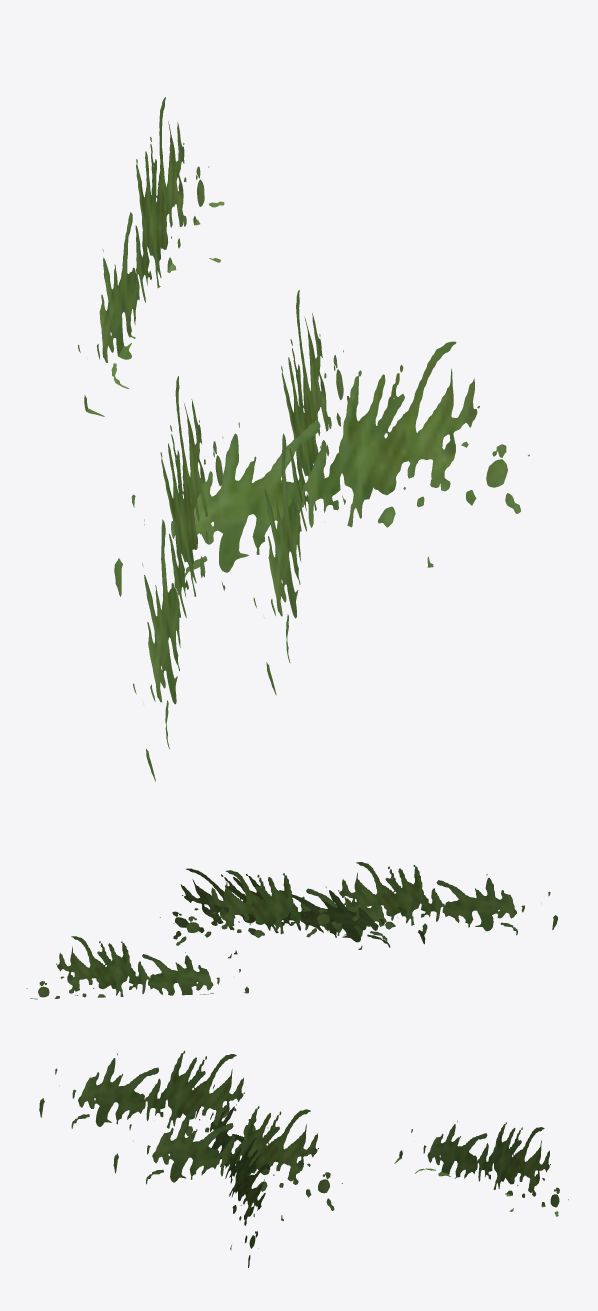
The picture shows the model from 3 angles, top to bottom: view 1: azimuth 30°, elevation 25°; view 2: azimuth 150°, elevation 25°; view 3: azimuth 270°, elevation 25°; orthographic projection. The views are drawn at different scales.
Visible parts, largest first — view 1: Mesh_32; view 2: Mesh_32; view 3: Mesh_32.
Boxes of the visible parts, x1=… form: Mesh_32: x1=78, y1=97, x2=529, y2=781; Mesh_32: x1=26, y1=862, x2=557, y2=999; Mesh_32: x1=39, y1=1050, x2=568, y2=1267.
Bounding box in the file's own units: 1.25 × 0.57 × 1.71.
